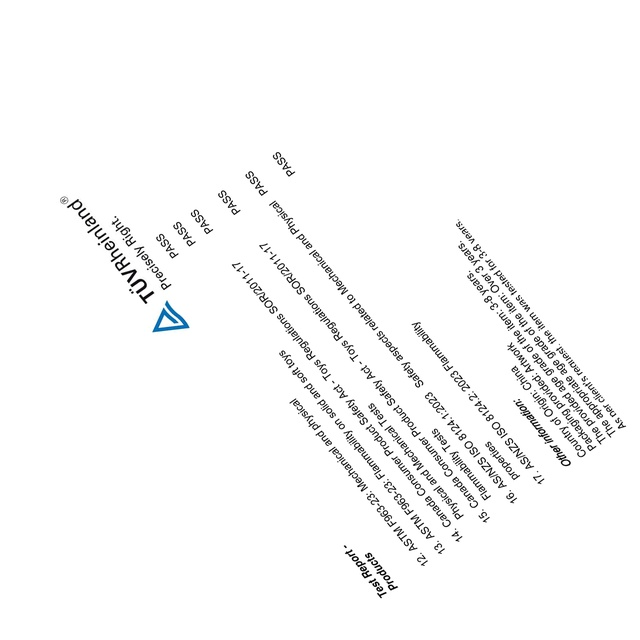tuv_rheinland: (58, 189, 190, 334)
